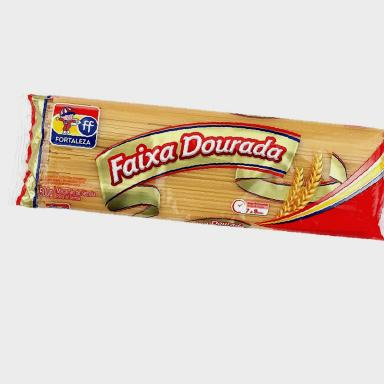pasta package: (15, 96, 383, 239)
